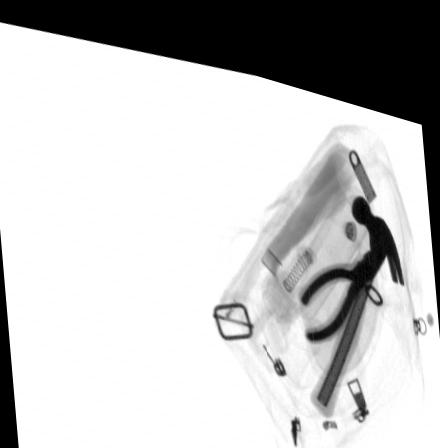Hammer: (306, 175, 402, 400)
Pliers: (296, 224, 385, 325)
